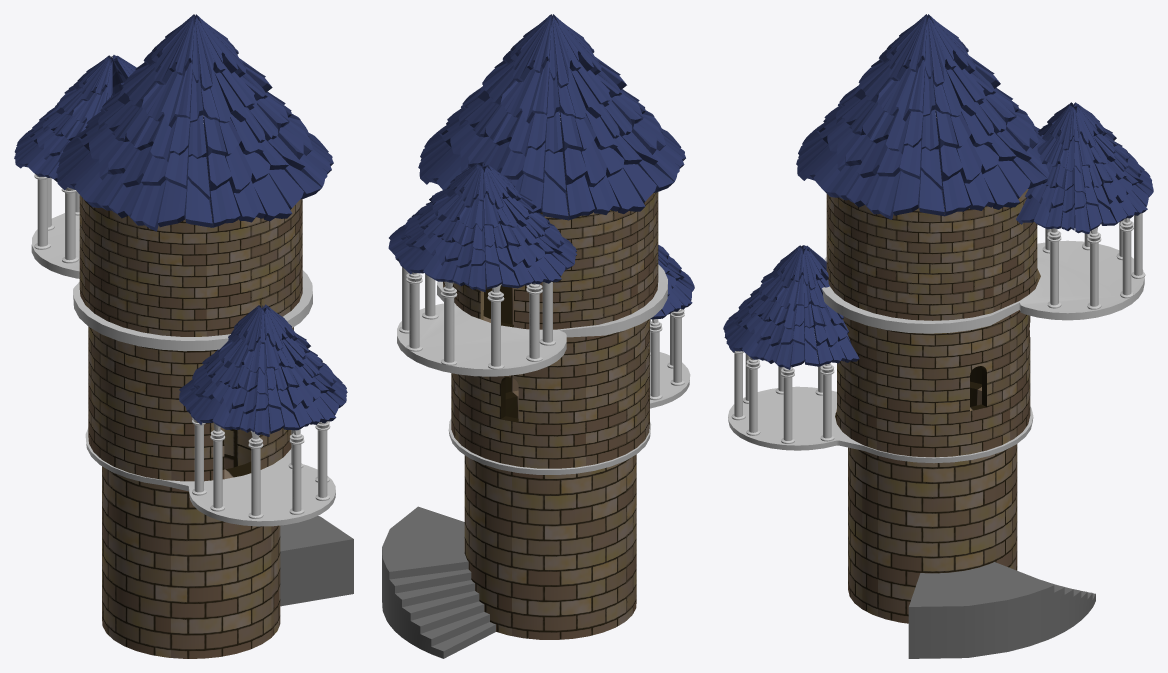
File: WizardTower.fbx
3 views of the same model, side by side, from view 1: azimuth 30°, elevation 25°; view 2: azimuth 150°, elevation 25°; view 3: azimuth 270°, elevation 25° (orthographic). The views are drawn at different scales.
Visible parts, largest first — view 1: WizardTower.001; view 2: WizardTower.001; view 3: WizardTower.001.
Boxes of the visible parts, x1,y1,x2,y2 form: WizardTower.001: (14, 14, 353, 658); WizardTower.001: (382, 14, 694, 658); WizardTower.001: (723, 14, 1153, 658).
Bounding box in the file's own units: 1385 × 3014 × 2043.
